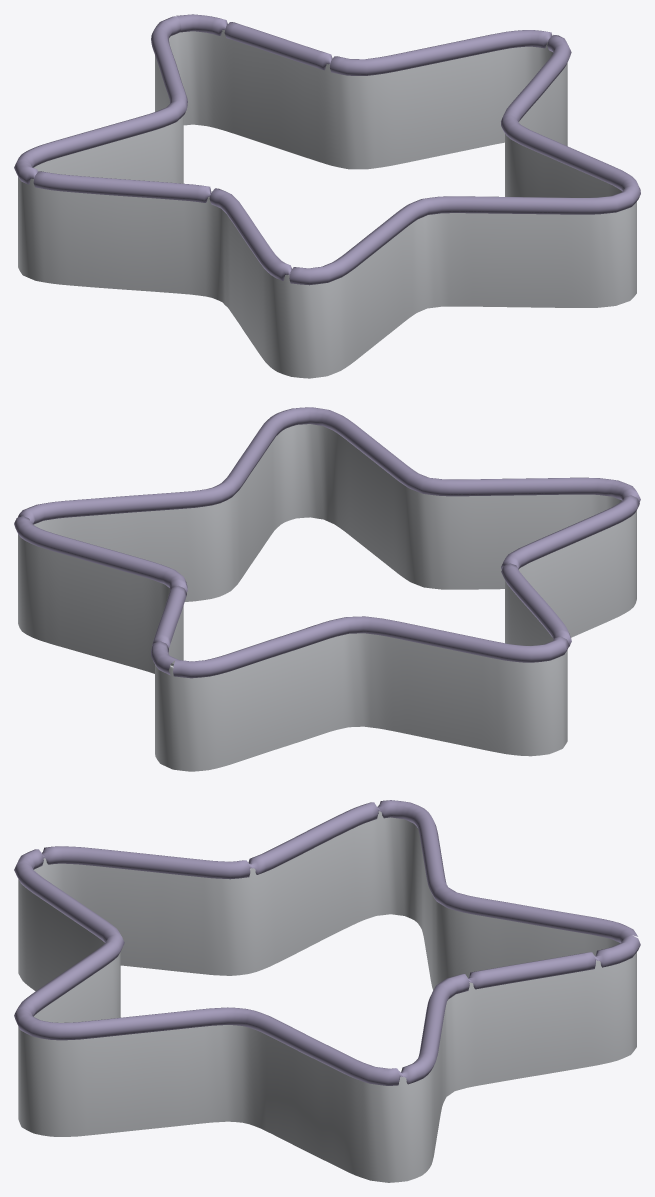
Rendered from StarCutter.glb.
3 renders of one model, top to bottom at view 1: azimuth 30°, elevation 25°; view 2: azimuth 150°, elevation 25°; view 3: azimuth 270°, elevation 25°, orthographic. The views are drawn at different scales.
Visible parts, largest first — view 1: Steel, Rim; view 2: Steel, Rim; view 3: Steel, Rim.
Boxes of the visible parts, box(x1,y1,x2,y2) form: Steel: box(18, 30, 636, 378); Rim: box(14, 14, 640, 285); Steel: box(18, 424, 636, 771); Rim: box(14, 407, 640, 678); Steel: box(18, 811, 636, 1182); Rim: box(14, 800, 640, 1085).
Size of the model in its own units: 9.18 by 1.73 by 8.79.
